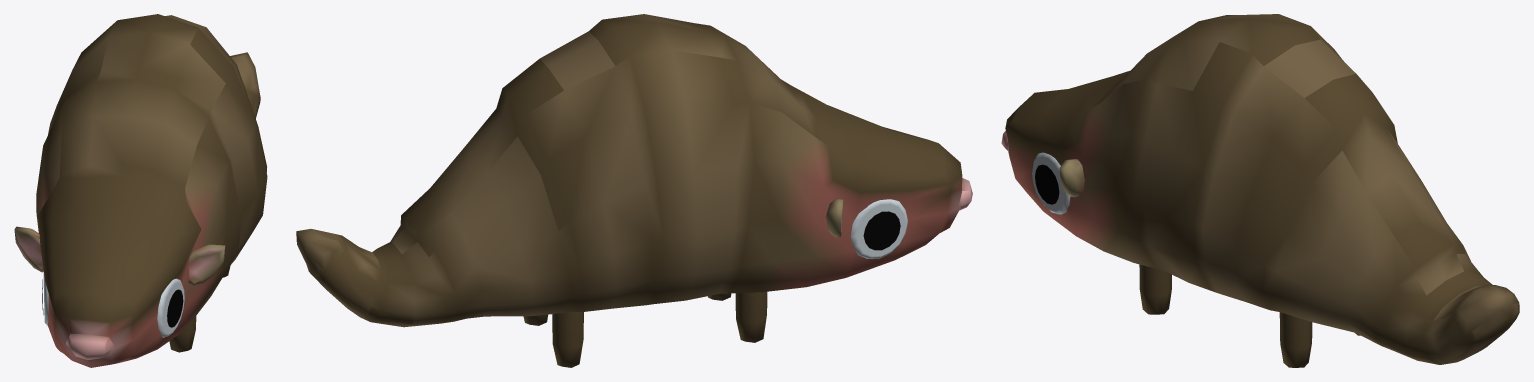
The model's file is Armadillo.glb.
The picture shows the model from 3 angles, left to right: view 1: azimuth 30°, elevation 25°; view 2: azimuth 150°, elevation 25°; view 3: azimuth 270°, elevation 25°; orthographic projection. The views are drawn at different scales.
Visible parts, largest first — view 1: 4; view 2: 4; view 3: 4.
Part boxes in pixels (<box>): 4: <box>14,14,267,367</box>; 4: <box>296,14,972,367</box>; 4: <box>1001,14,1519,367</box>.
Bounding box in the file's own units: 0.8531 × 0.5809 × 0.8999.
